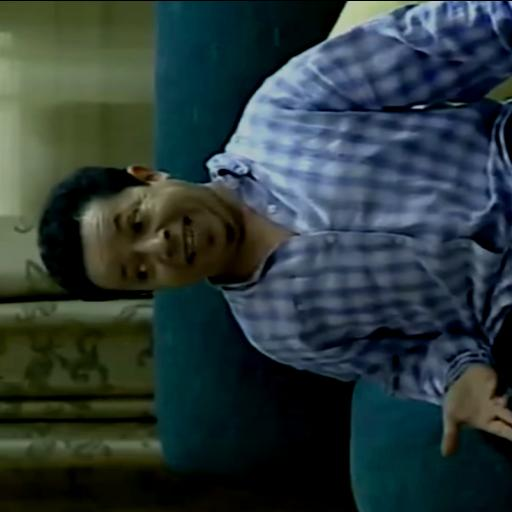fouchika: (37, 166, 243, 300)
